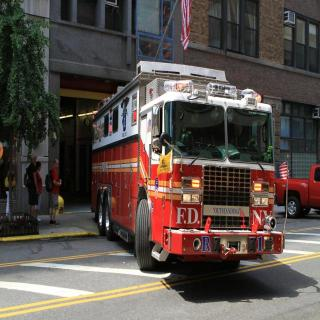Fire_truck: (90, 59, 287, 271)
